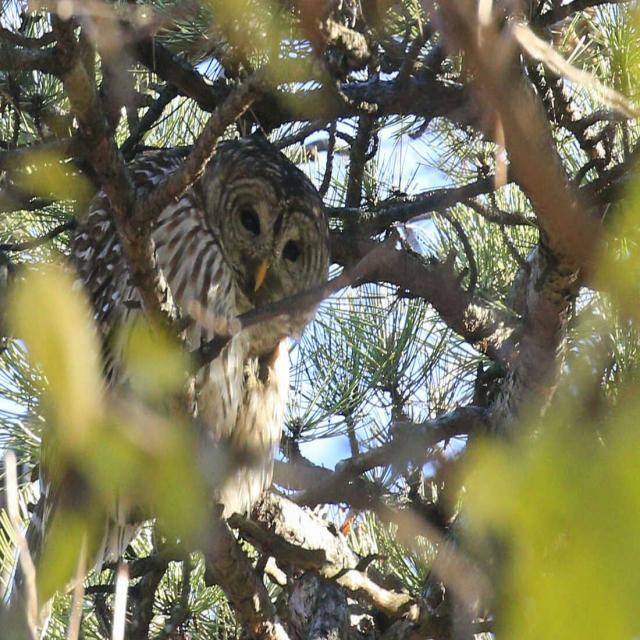owl: (69, 139, 332, 514)
